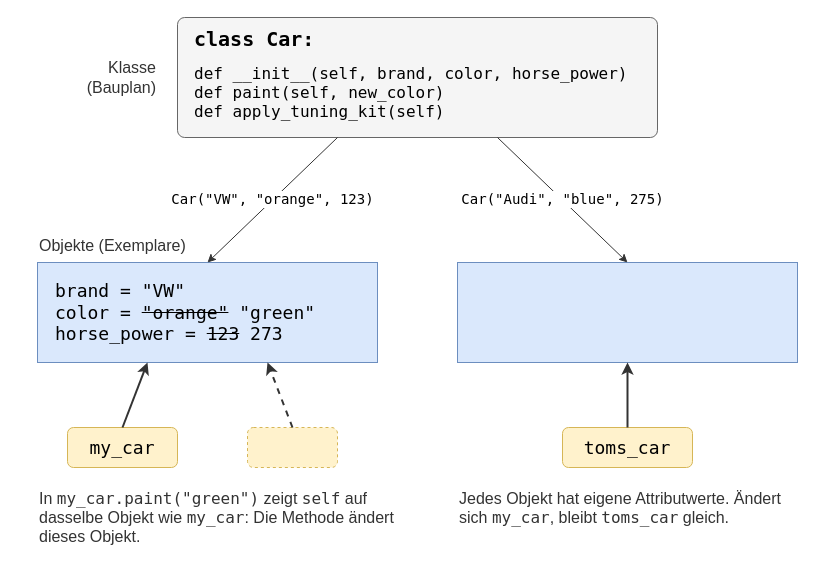
This 815x570 diagram has some shape labels left out. Here are the shapes that lost their labels. From the top down, the centre of each, then its label:
the point at 627,312: brand = "Audi" color = "blue" horse_power = 275
the point at 292,447: self
